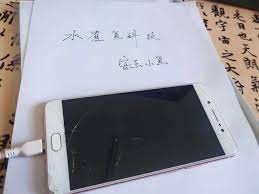mobil: (42, 82, 239, 193)
